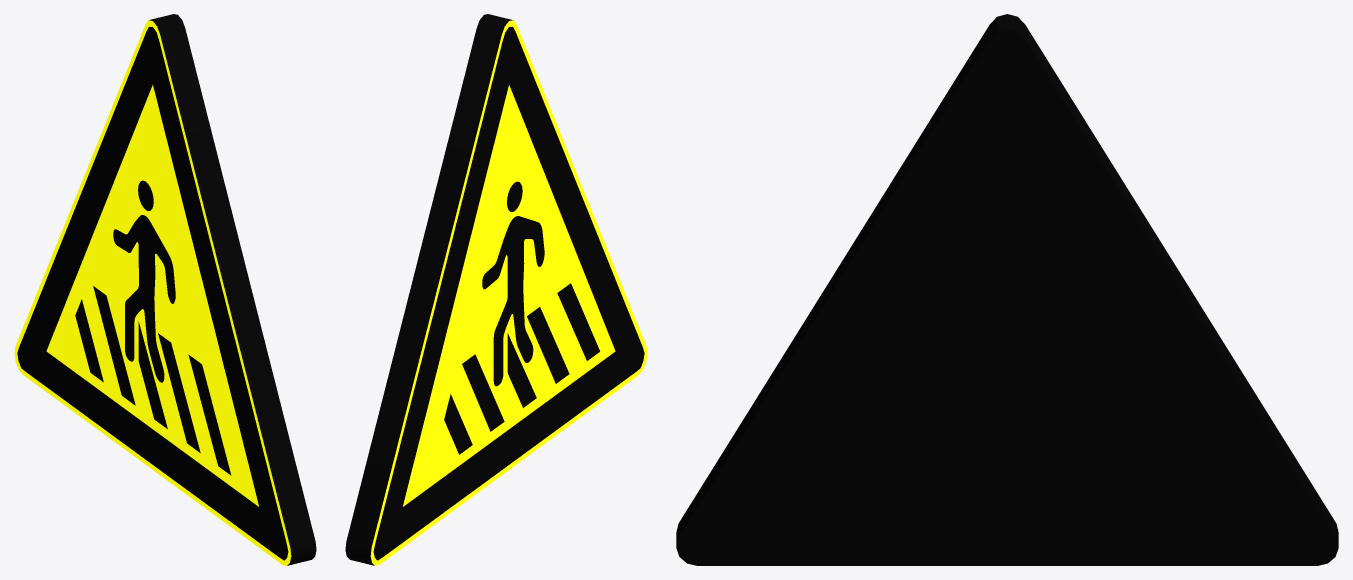
The model's file is Pay_Attention_To_Pedestrians.glb.
The picture shows the model from 3 angles, left to right: view 1: azimuth 30°, elevation 25°; view 2: azimuth 150°, elevation 25°; view 3: azimuth 270°, elevation 25°; orthographic projection. The views are drawn at different scales.
Parts seen in each view (by area): view 1: Pay_Attention_To_Pedestrians; view 2: Pay_Attention_To_Pedestrians; view 3: Pay_Attention_To_Pedestrians.
Boxes of the visible parts, left/top/right/bottom form: Pay_Attention_To_Pedestrians: left=14, top=14, right=316, bottom=565; Pay_Attention_To_Pedestrians: left=345, top=14, right=647, bottom=565; Pay_Attention_To_Pedestrians: left=676, top=14, right=1338, bottom=565.
Size of the model in its own units: 0.075 by 1.02 by 1.14.
